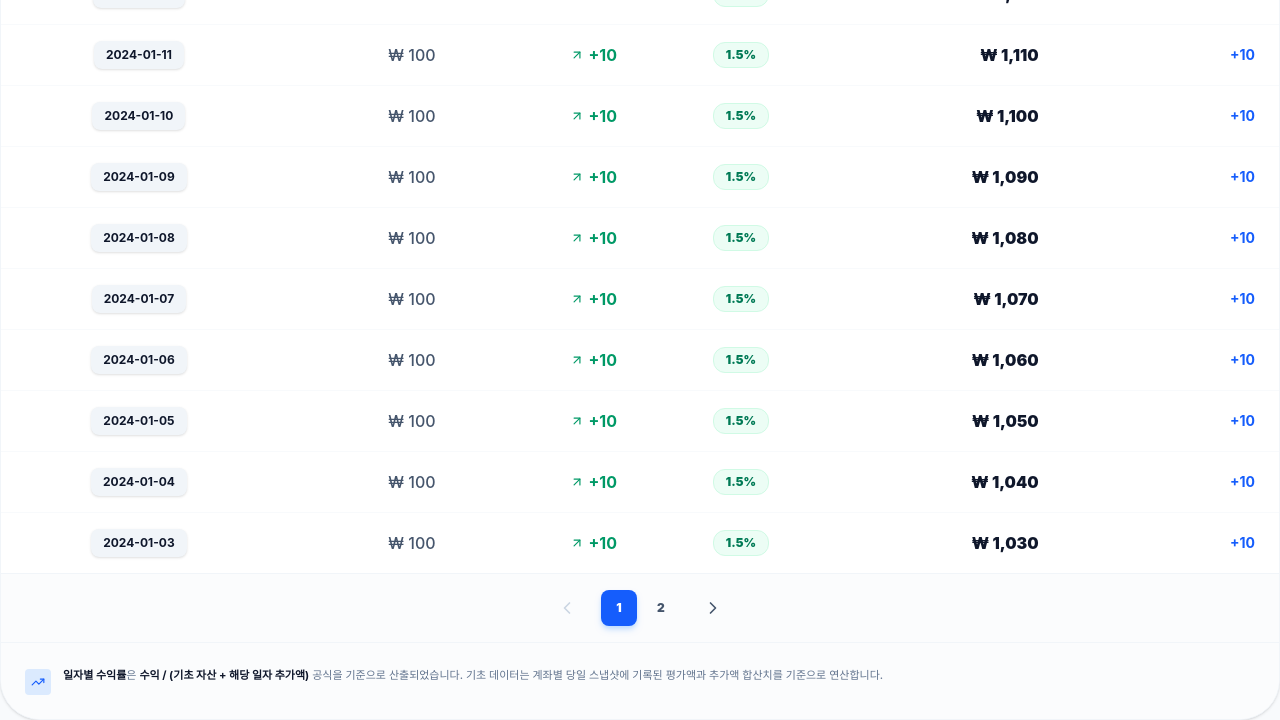
Scenario: PerformanceTable › 3. type="status" & period="daily" (일자별 현황) › 10개 초과 시 페이지네이션 컨트롤이 작동해야 한다
This screenshot has width=1280, height=720.
(page scrolled)
Expected: the text "2024-01-01" is not shown
Click the button named "다음 페이지" at (713, 608), box x1=695 y1=590 x2=731 y2=626
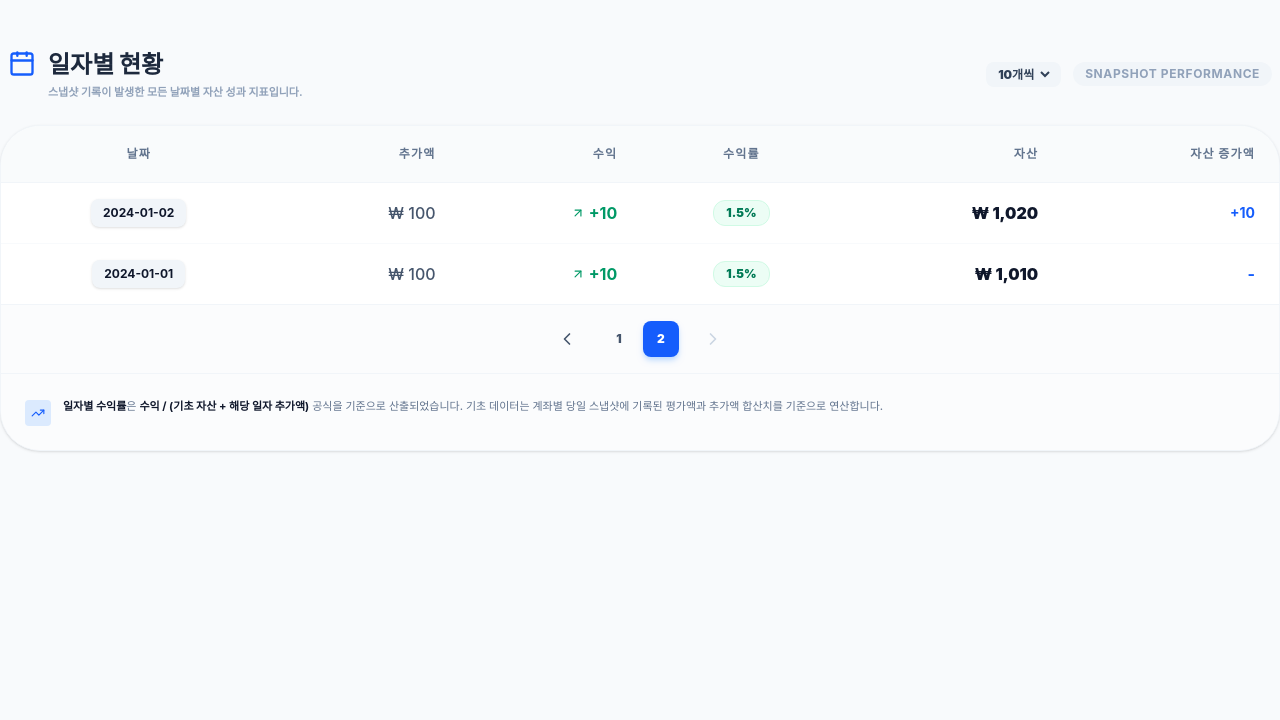
Expected: the text "2024-01-12" is not shown
Now the number of rows is 3, box x1=1 y1=126 x2=1279 y2=182; x1=1 y1=182 x2=1279 y2=243; x1=1 y1=243 x2=1279 y2=304
Now the text "2024-01-01" is shown, box x1=92 y1=260 x2=185 y2=288
